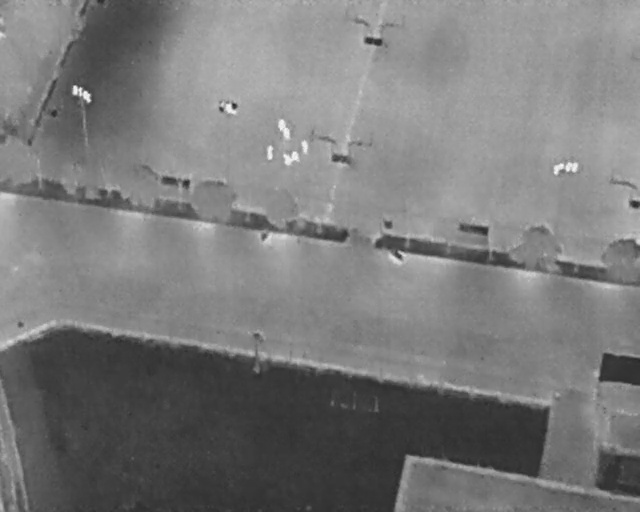Person: (301, 139, 309, 155), (267, 144, 274, 161), (291, 150, 300, 163), (282, 153, 291, 166), (278, 119, 286, 133), (283, 128, 291, 141)
